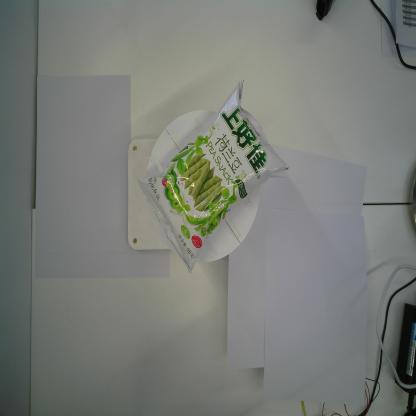Puffed Food: (138, 77, 290, 274)
